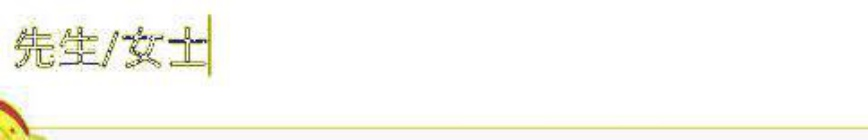EditText: (1, 1, 867, 139)
